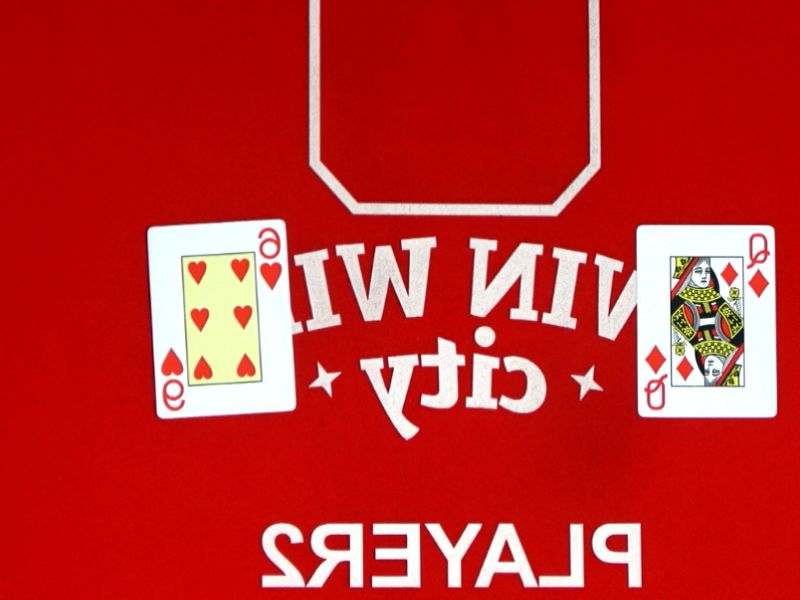6H: (130, 343, 210, 415), (231, 220, 310, 292)
QD: (720, 228, 800, 301), (615, 340, 694, 411)
